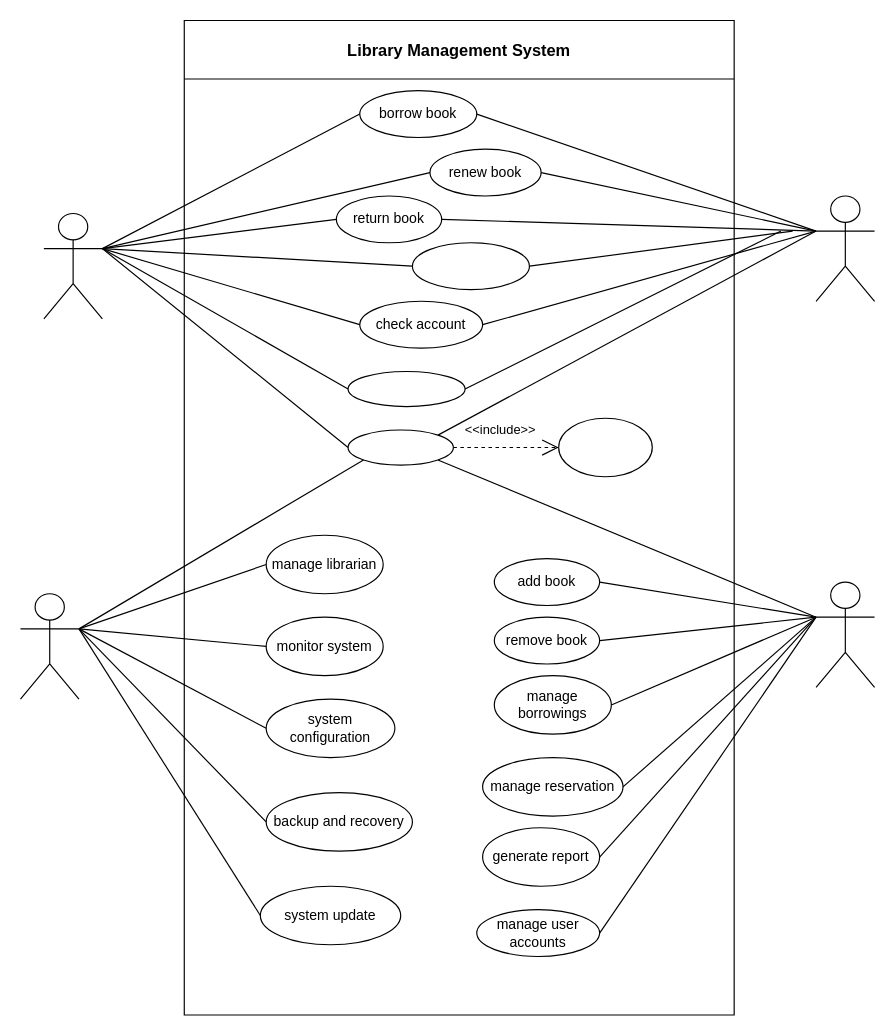
This 895x1035 diagram has some shape labels left out. Each missing label, with the centre of its shape:
"admin" goes at point 49,646.
"lecturer" goes at point 845,248.
"librarian" goes at point 845,634.
"login" goes at point 400,447.
"reserve book" goes at point 406,388.
"search catalog" goes at point 470,266.
"student" goes at point 72,265.
"validate user" goes at point 605,447.
